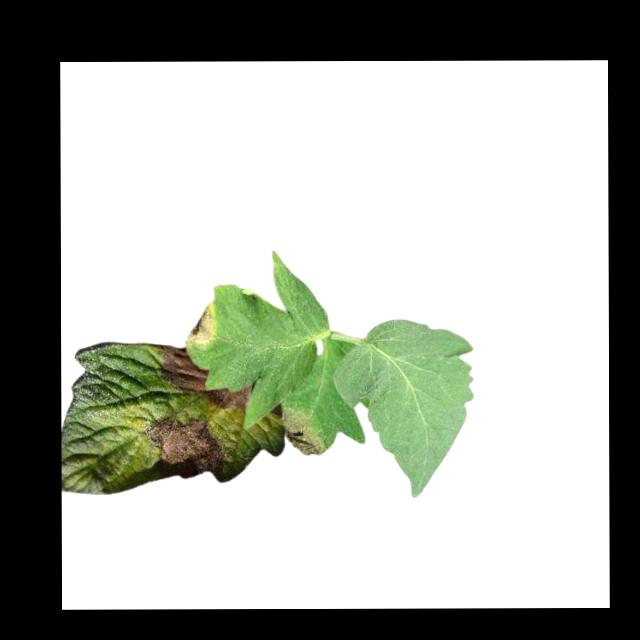Late_blight: (141, 418, 224, 481), (281, 404, 327, 460), (153, 348, 207, 393), (185, 301, 217, 346), (207, 384, 253, 410)
healthy: (331, 318, 474, 498)
